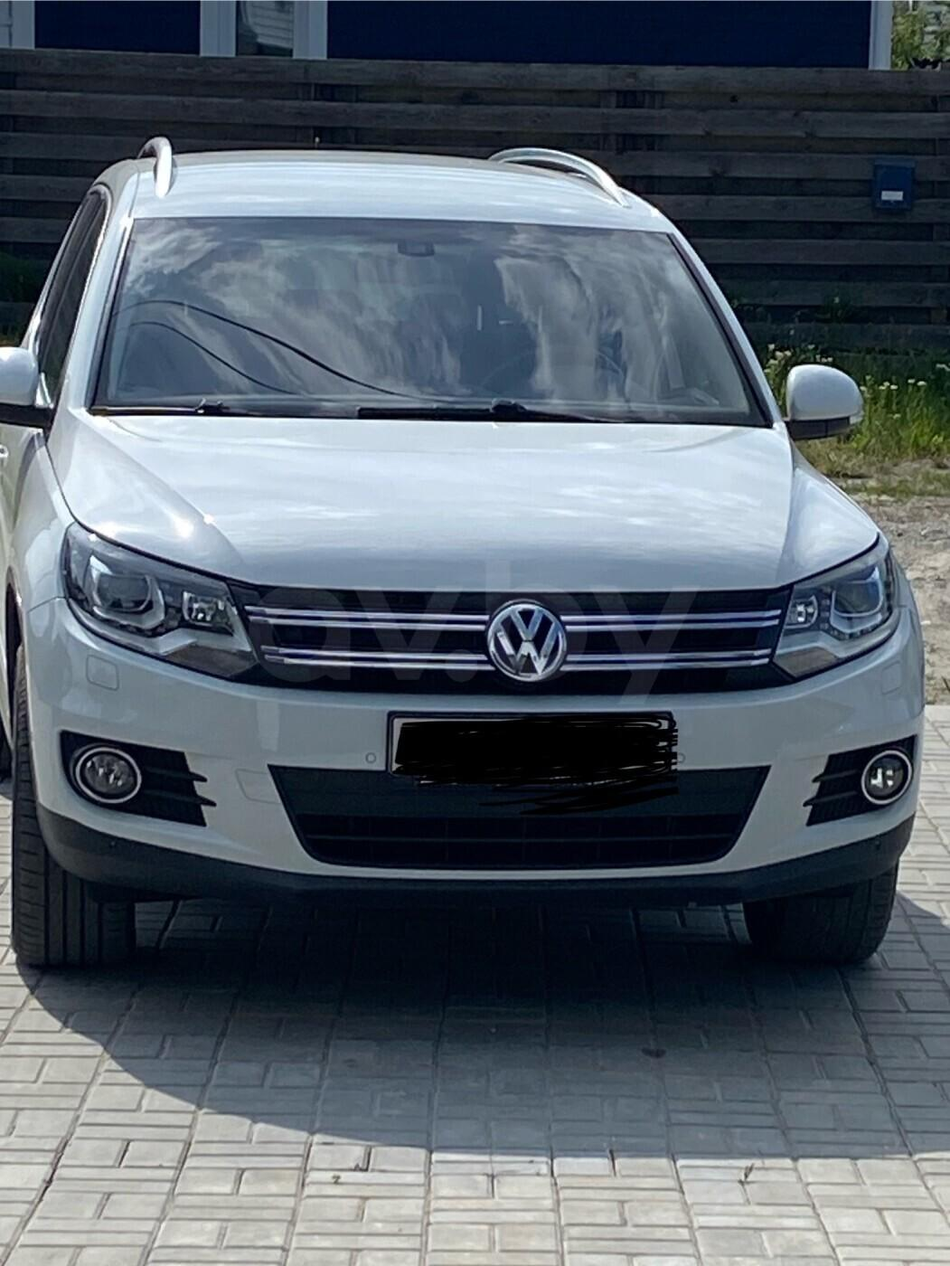Tiguan_2011-2018: (0, 141, 927, 998)
